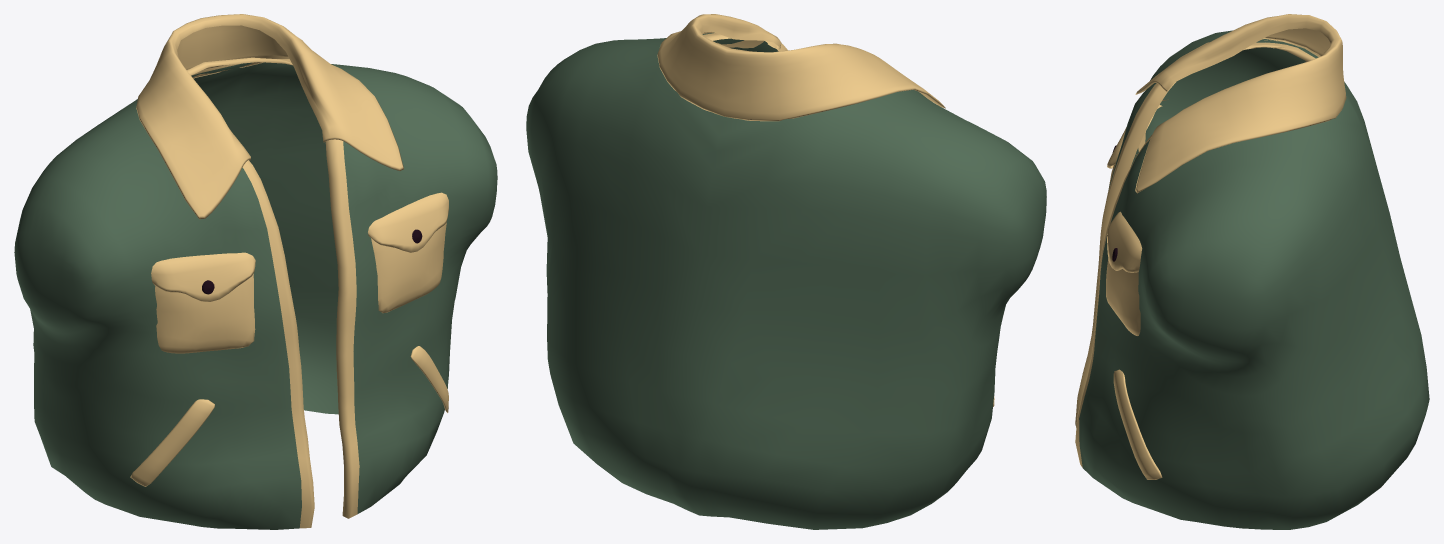
The model's file is layer_safari.glb.
The picture shows the model from 3 angles, left to right: view 1: azimuth 30°, elevation 25°; view 2: azimuth 150°, elevation 25°; view 3: azimuth 270°, elevation 25°; orthographic projection. The views are drawn at different scales.
Parts seen in each view (by area): view 1: jacket_safari; view 2: jacket_safari; view 3: jacket_safari.
Part boxes in pixels (x1,y1,x2,y2): jacket_safari: (14,14,497,529); jacket_safari: (526,14,1046,529); jacket_safari: (1075,14,1429,529).
Bounding box in the file's own units: 0.5429 × 0.4767 × 0.3598.
